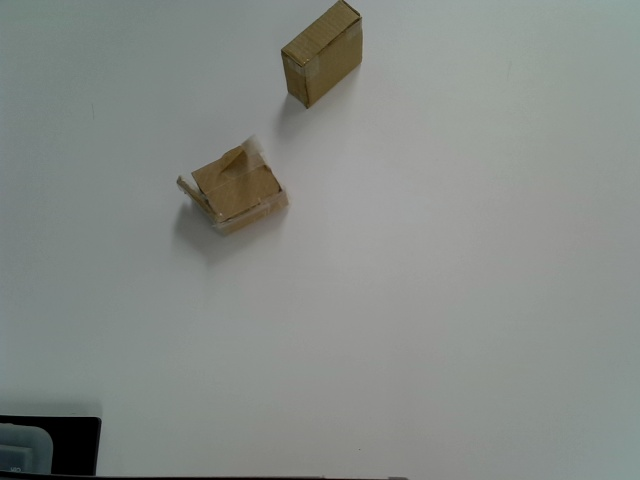defect: (177, 135, 290, 237)
normal: (280, 1, 364, 109)
